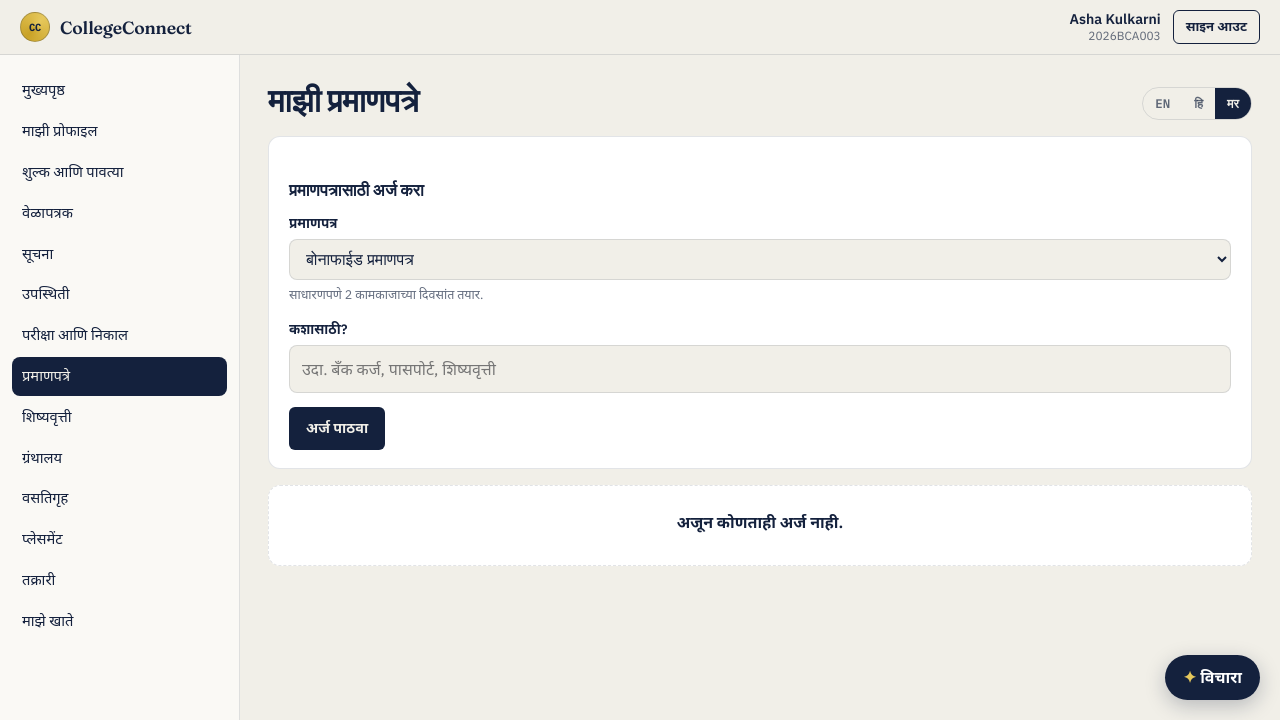
Scenario: certificates › choosing a TC shows the no-dues check: a library book and a hostel bed, in Marathi
Expected: the text "साधारणपणे 2 कामकाजाच्या दिवसांत तयार." is shown, [289, 286, 483, 302]
Expected: the text "थकबाकी तपासणी" is not shown
Select "शाळा/कॉलेज सोडल्याचा दाखला (TC)" in the dropdown labelled "प्रमाणपत्र" at [760, 260], box [289, 239, 1231, 280]
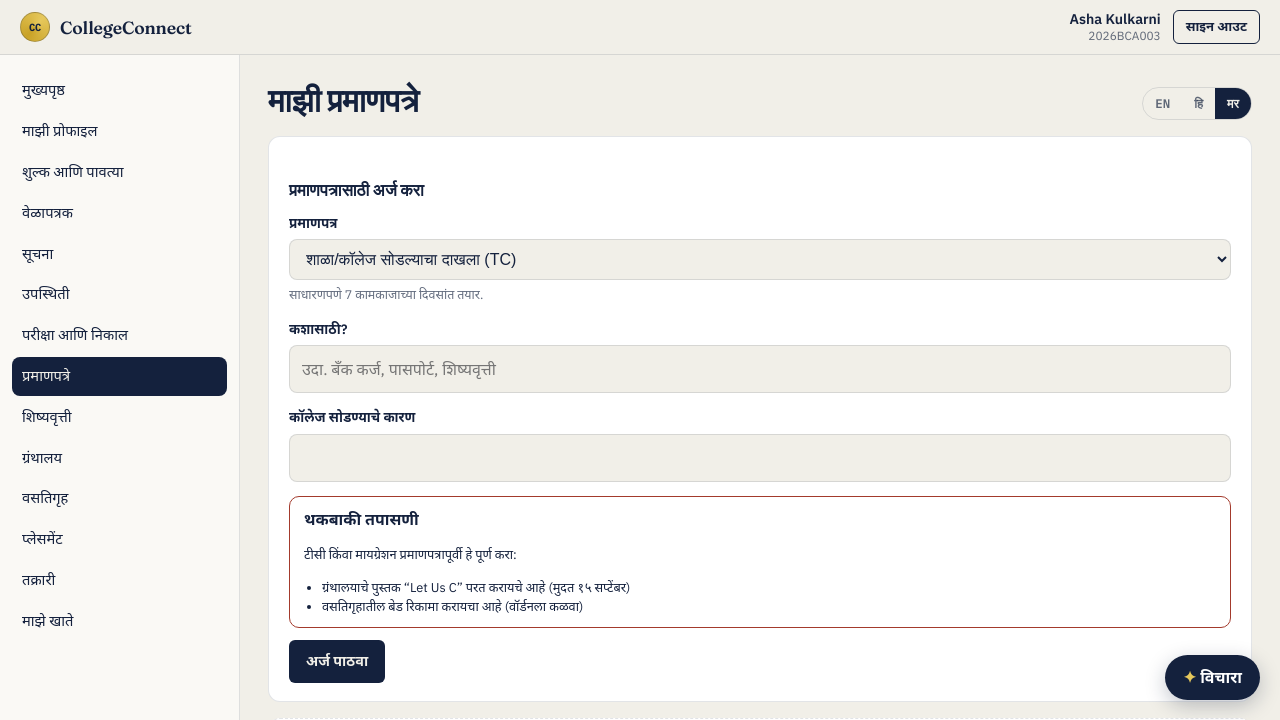
Result: the text "थकबाकी तपासणी" is shown at [304, 509, 419, 529]
Result: the list item "“Let Us C” परत करायचे आहे" is shown at [322, 578, 630, 596]
Result: the list item "वसतिगृहातील बेड रिकामा करायचा आहे (वॉर्डनला कळवा)" is shown at [322, 598, 583, 615]
